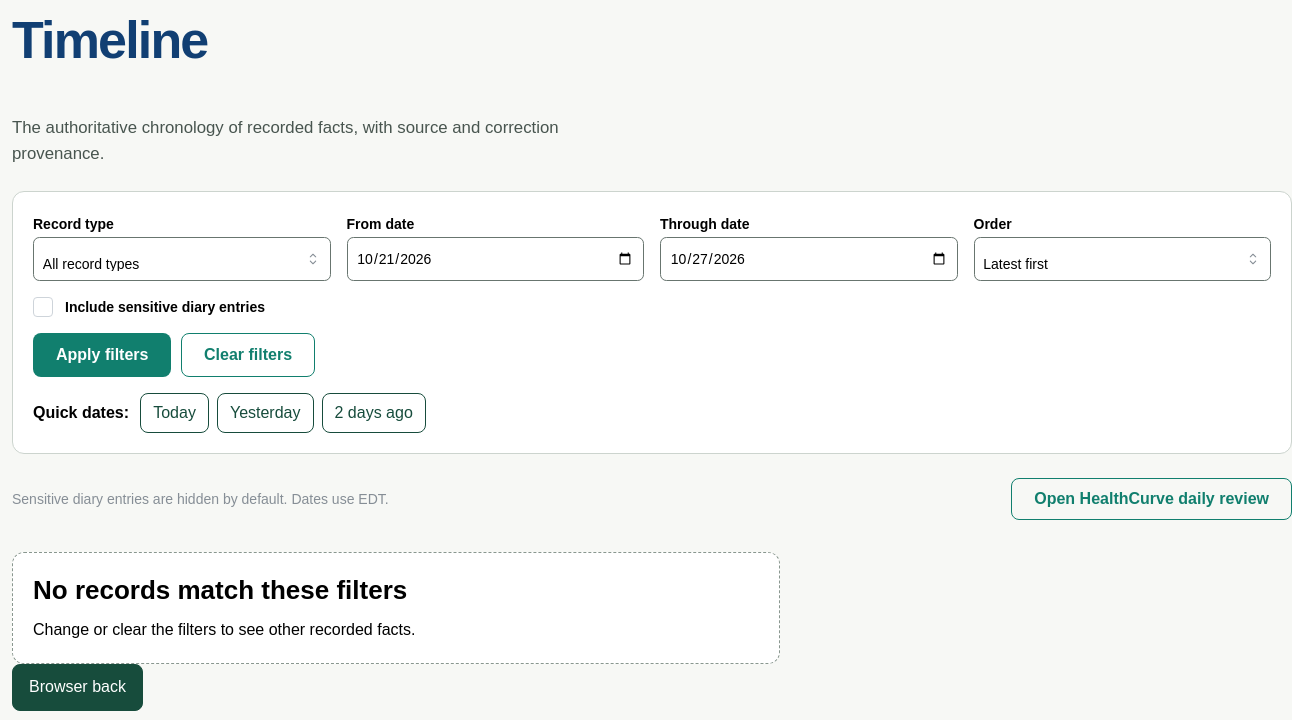
Test case: Timeline page › distinguishes filtered-to-zero from a new record
Check: the heading "No records match these filters" is shown, box top-left (33, 575), bottom-right (407, 605)
Click the button "Clear filters" at (248, 355), box top-left (181, 333), bottom-right (315, 377)
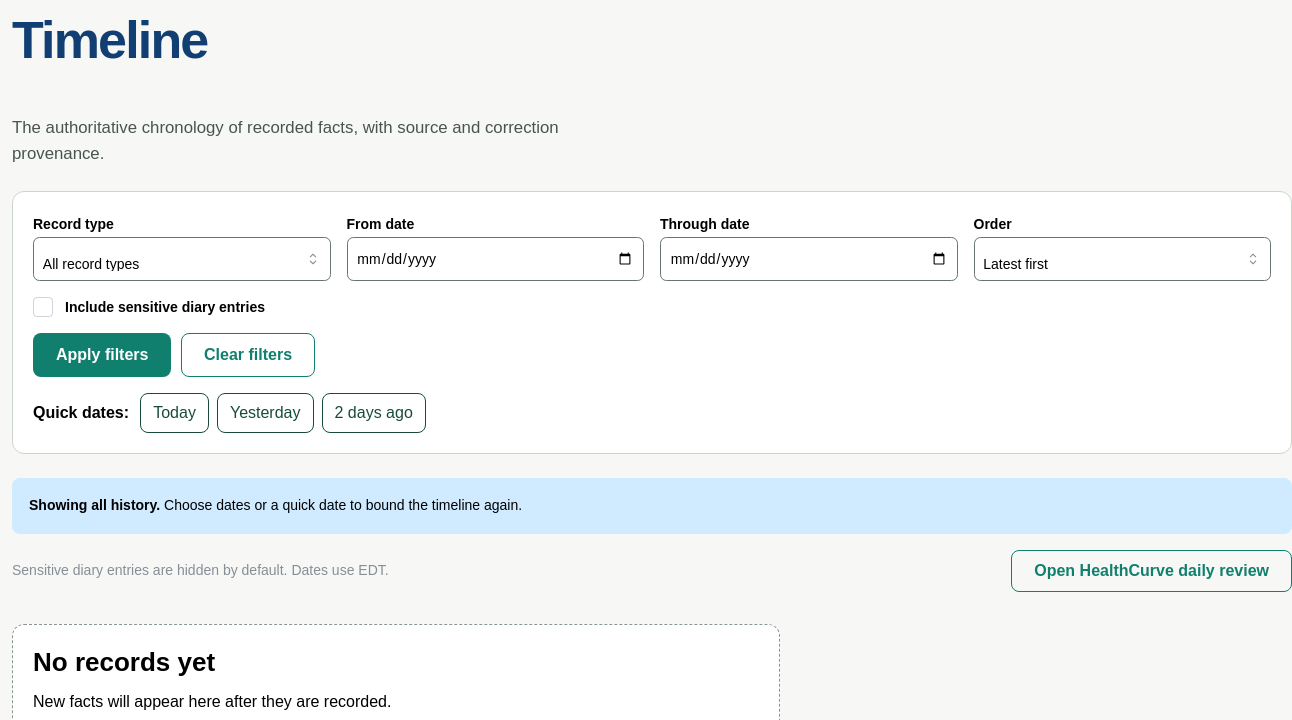
Check: the heading "No records yet" is shown, box top-left (33, 646), bottom-right (215, 676)
Select "Symptoms" in the dropdown labelled "Record type" at (182, 259), box top-left (33, 237), bottom-right (330, 281)
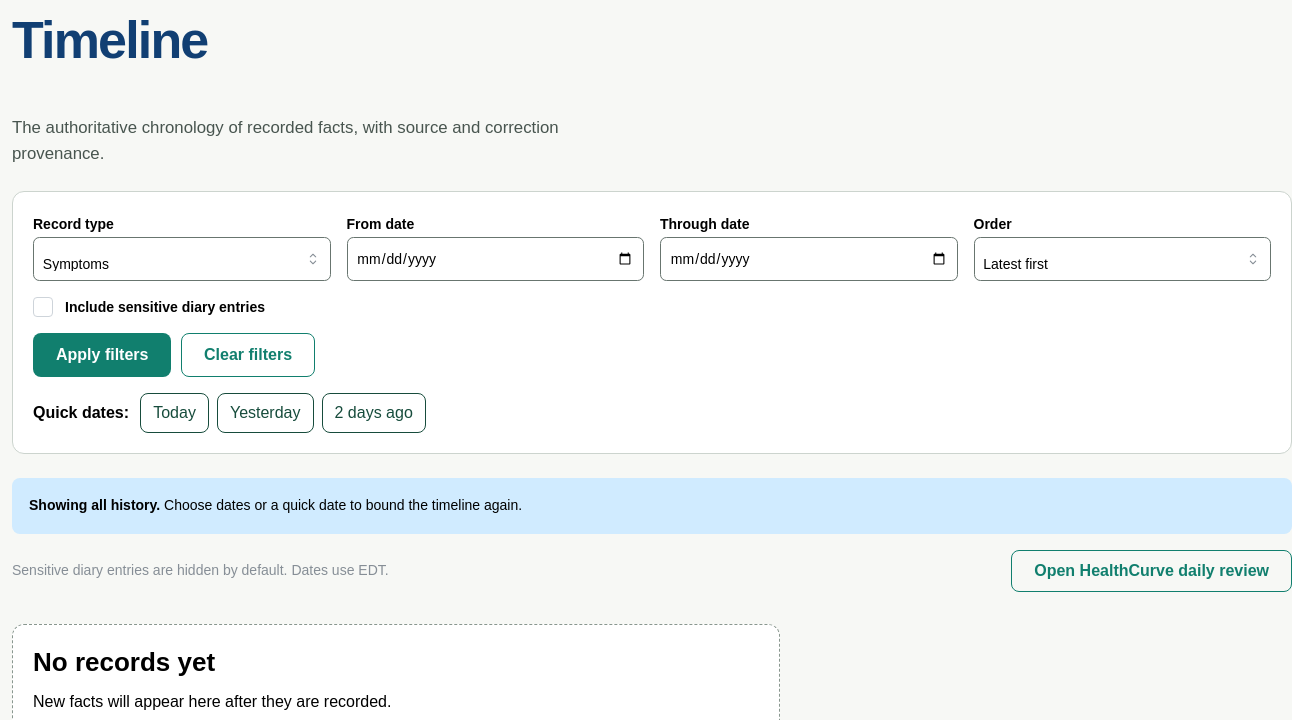
Click the button "Apply filters" at (102, 355), box top-left (33, 333), bottom-right (172, 377)
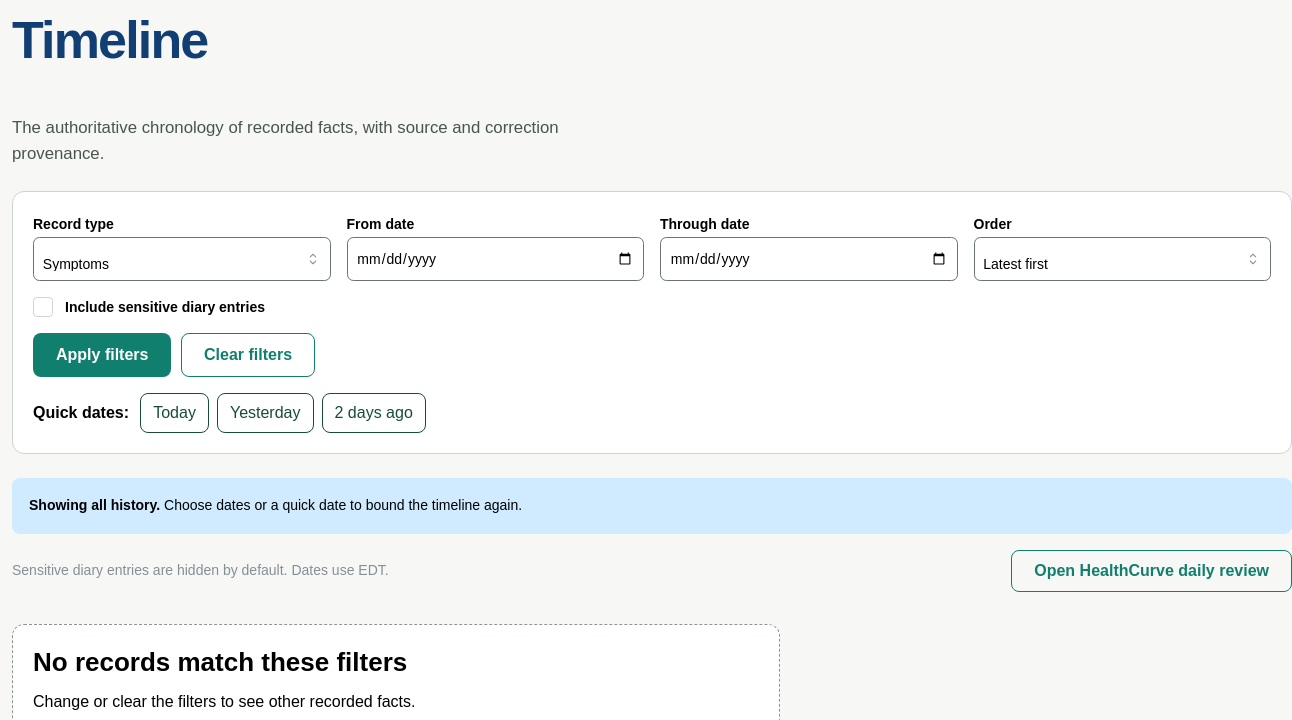
Check: the heading "No records match these filters" is shown, box top-left (33, 646), bottom-right (407, 676)
